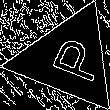P_NW: (35, 32, 102, 86)
